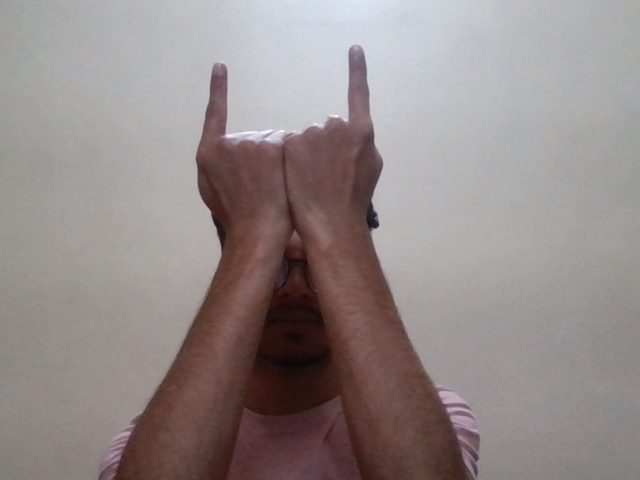when: (166, 28, 411, 230)
